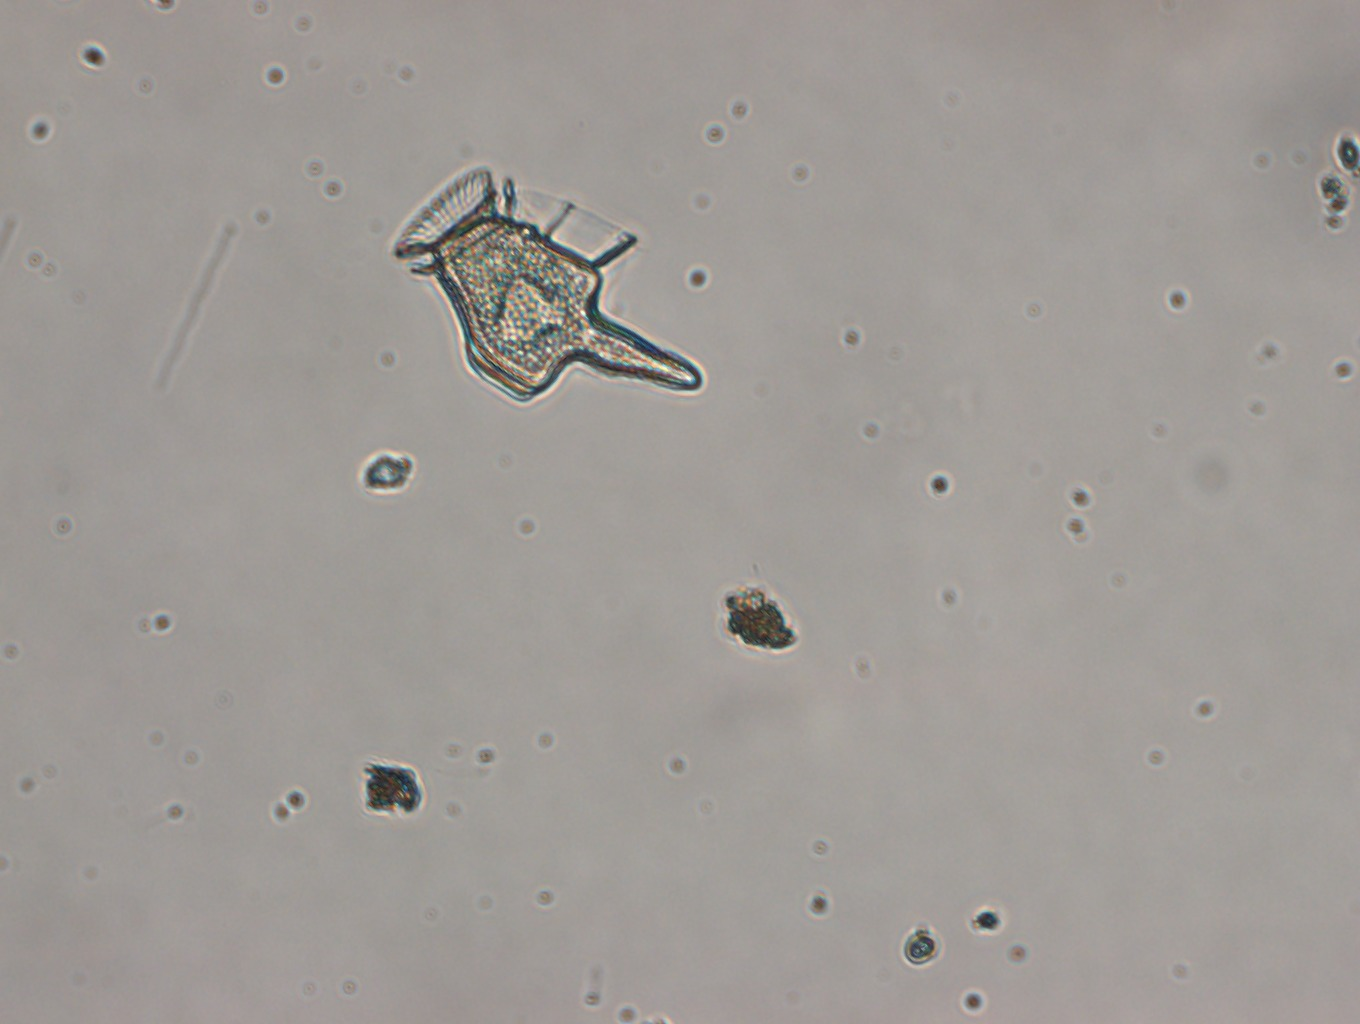dinophysis caudata: (387, 160, 706, 406)
